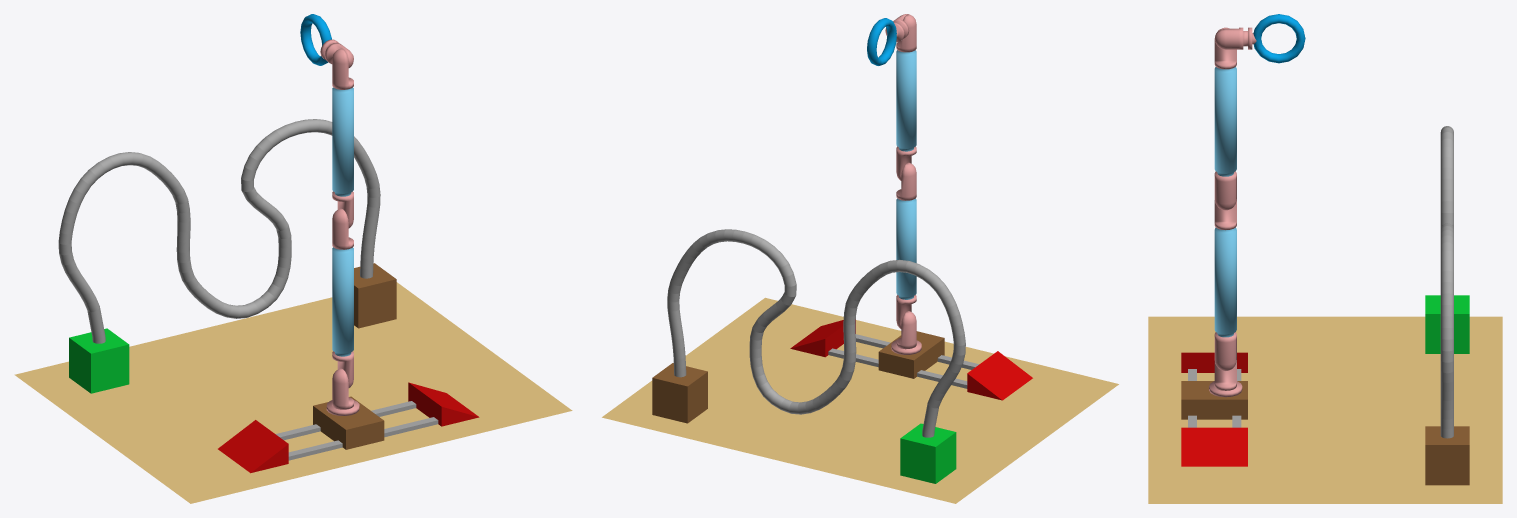
File: wire loop.dae
3 views of the same model, side by side, from view 1: azimuth 30°, elevation 25°; view 2: azimuth 150°, elevation 25°; view 3: azimuth 270°, elevation 25° (orthographic). The views are drawn at different scales.
Visible parts, largest first — view 1: Floor, Wire, Arm2, Arm1, Finish, RailStopLeft, Start, Roboterarm, Rail, RailStopRight, ArmBase, ArmRing; view 2: Floor, Wire, Arm2, Arm1, Finish, Start, RailStopLeft, Roboterarm, RailStopRight, Rail, ArmRing, ArmBase; view 3: Floor, Wire, Arm2, Arm1, RailStopRight, Start, Roboterarm, Finish, ArmRing, RailStopLeft, ArmBase, ArmTop (+1 smaller).
Part boxes in pixels (x1=…): Floor: x1=14, y1=282, x2=572, y2=503; Wire: x1=58, y1=119, x2=380, y2=343; Arm2: x1=332, y1=48, x2=353, y2=228; Arm1: x1=332, y1=208, x2=353, y2=387; Finish: x1=69, y1=328, x2=129, y2=393; RailStopLeft: x1=218, y1=420, x2=288, y2=473; Start: x1=354, y1=263, x2=396, y2=328; Roboterarm: x1=313, y1=396, x2=384, y2=449; Rail: x1=275, y1=401, x2=438, y2=460; RailStopRight: x1=408, y1=382, x2=479, y2=426; ArmBase: x1=326, y1=368, x2=359, y2=415; ArmRing: x1=300, y1=14, x2=331, y2=65; Floor: x1=602, y1=297, x2=1118, y2=503; Wire: x1=667, y1=229, x2=965, y2=437; Arm2: x1=896, y1=14, x2=916, y2=180; Arm1: x1=896, y1=162, x2=916, y2=328; Finish: x1=900, y1=423, x2=956, y2=483; Start: x1=652, y1=363, x2=707, y2=423; RailStopLeft: x1=967, y1=351, x2=1032, y2=400; Roboterarm: x1=878, y1=331, x2=944, y2=378; RailStopRight: x1=790, y1=319, x2=855, y2=357; Rail: x1=828, y1=334, x2=978, y2=388; ArmRing: x1=867, y1=18, x2=896, y2=65; ArmBase: x1=891, y1=311, x2=921, y2=354; Floor: x1=1148, y1=316, x2=1502, y2=503; Wire: x1=1440, y1=126, x2=1453, y2=438; Arm2: x1=1214, y1=27, x2=1236, y2=210; Arm1: x1=1214, y1=199, x2=1236, y2=370; RailStopRight: x1=1181, y1=427, x2=1247, y2=466; Start: x1=1425, y1=426, x2=1469, y2=485; Roboterarm: x1=1181, y1=381, x2=1247, y2=419; Finish: x1=1425, y1=295, x2=1469, y2=353; ArmRing: x1=1253, y1=14, x2=1305, y2=63; RailStopLeft: x1=1181, y1=352, x2=1247, y2=372; ArmBase: x1=1209, y1=360, x2=1242, y2=397; ArmTop: x1=1214, y1=27, x2=1247, y2=49.
Size of the model in its own units: 20 by 16 by 19.7.
